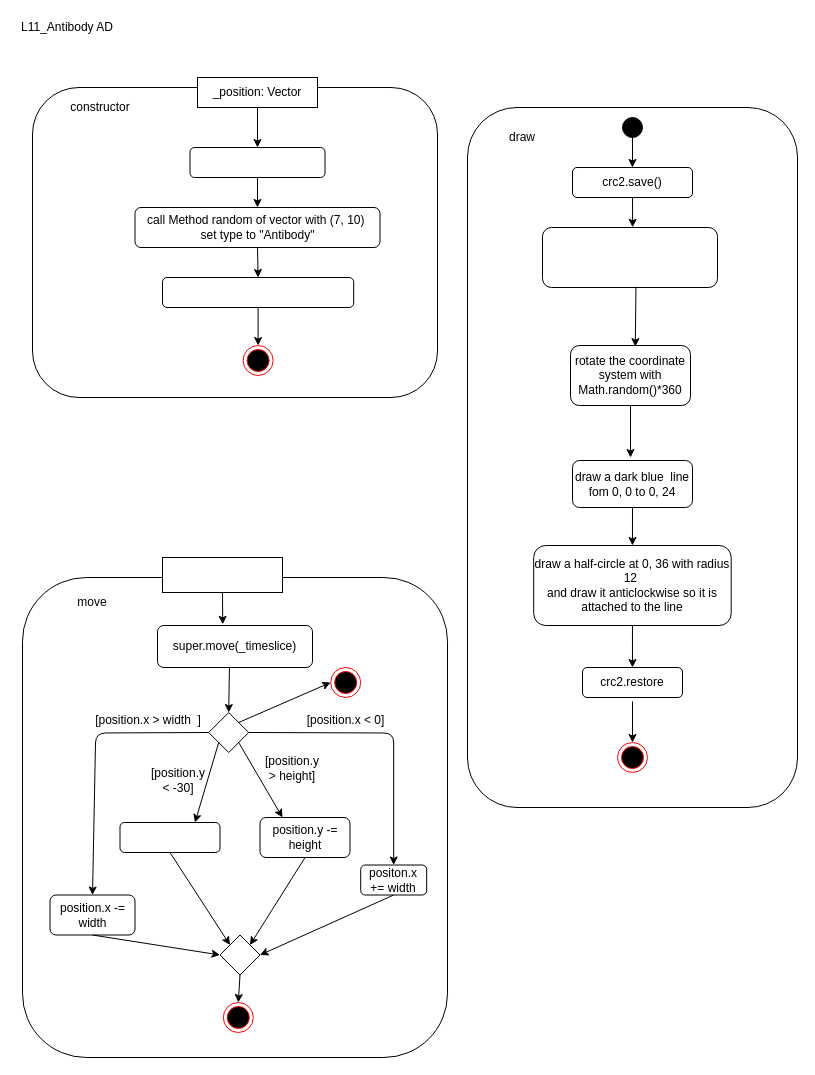
Some shapes in this 815 by 1075 pixel diagram are drawn without their labels. The shapes that lost their labels are listed below. From the top down, each one's centre as x and y in pixels, then its label:
the point at 257,162: super(_position)
the point at 630,257: move coordinate system to _position.x, _position.y
the point at 258,292: set rotation to Math.random() * 360
the point at 222,574: _timeslice: number
the point at 169,837: position.y += height
